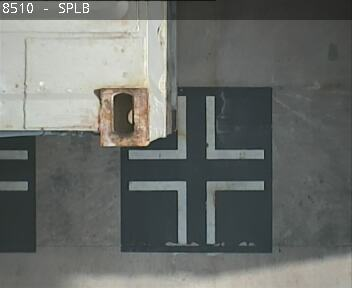groundmarker_1: (127, 96, 265, 160), (128, 181, 266, 244)
